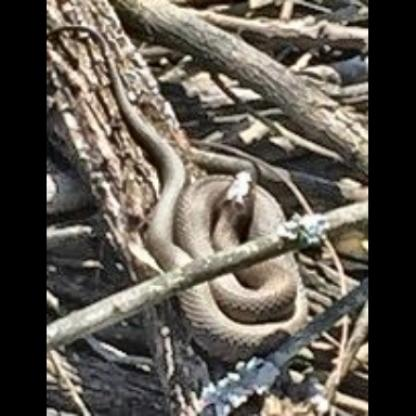Snake: (141, 155, 312, 356)
